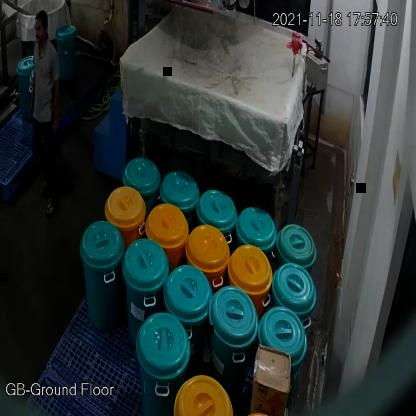no_shoes: (44, 197, 58, 221)
